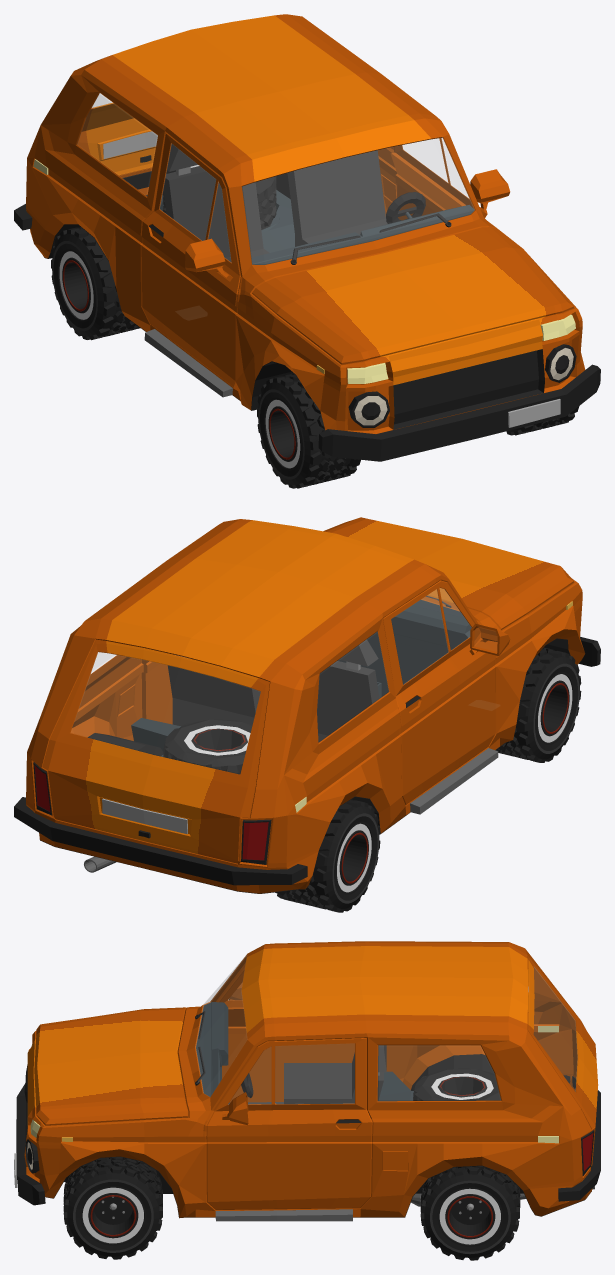
Rendered from car1.glb.
3 views of the same model, one above another, from view 1: azimuth 30°, elevation 25°; view 2: azimuth 150°, elevation 25°; view 3: azimuth 270°, elevation 25° (orthographic). The views are drawn at different scales.
Visible parts, largest first — view 1: Body, hood, WindowFront, Seats, Door, Bumper.001, Wheel.002, Wheel.003, WondowRight, WindowDoor, Trunk, Door.001 (+12 smaller); view 2: Body, Trunk, WindowBack, Door, hood, Seats, Wheel.003, Wheel.002, Bumper.002, Panel, WondowRight, WindowDoor (+8 smaller); view 3: Body, Door.001, hood, Wheel.002, Wheel.003, WondowRight, WindowDoor.001, Door, WindowFront, Seats, Trunk, WindowBack (+9 smaller).
Part boxes in pixels (<box>): Body: <box>26,14,585,433</box>; hood: <box>252,227,573,364</box>; WindowFront: <box>242,138,474,264</box>; Seats: <box>163,143,387,262</box>; Door: <box>141,132,240,386</box>; Bumper.001: <box>318,364,600,461</box>; Wheel.002: <box>257,373,579,488</box>; Wheel.003: <box>51,226,140,340</box>; WondowRight: <box>77,94,157,195</box>; WindowDoor: <box>159,144,230,261</box>; Trunk: <box>77,102,155,175</box>; Door.001: <box>390,138,473,220</box>; Body: <box>26,519,585,893</box>; Trunk: <box>42,639,269,863</box>; WindowBack: <box>71,652,259,773</box>; Door: <box>383,580,495,804</box>; hood: <box>323,517,573,629</box>; Seats: <box>167,639,379,742</box>; Wheel.003: <box>275,799,380,912</box>; Wheel.002: <box>495,647,581,762</box>; Bumper.002: <box>14,797,307,885</box>; Panel: <box>337,599,471,696</box>; WondowRight: <box>317,632,388,741</box>; WindowDoor: <box>392,588,471,684</box>; Body: <box>24,941,595,1217</box>; Door.001: <box>206,1038,372,1209</box>; hood: <box>34,1007,188,1125</box>; Wheel.002: <box>63,1157,162,1259</box>; Wheel.003: <box>420,1166,520,1260</box>; WondowRight: <box>378,1046,500,1100</box>; WindowDoor.001: <box>230,1044,354,1103</box>; Door: <box>219,969,354,1102</box>; WindowFront: <box>195,955,246,1095</box>; Seats: <box>284,1045,386,1104</box>; Trunk: <box>527,956,598,1163</box>; WindowBack: <box>534,967,577,1091</box>.
Bounding box in the file's own units: 7.47 × 5.83 × 13.73.
Materials: 4 (1 with a texture image).
